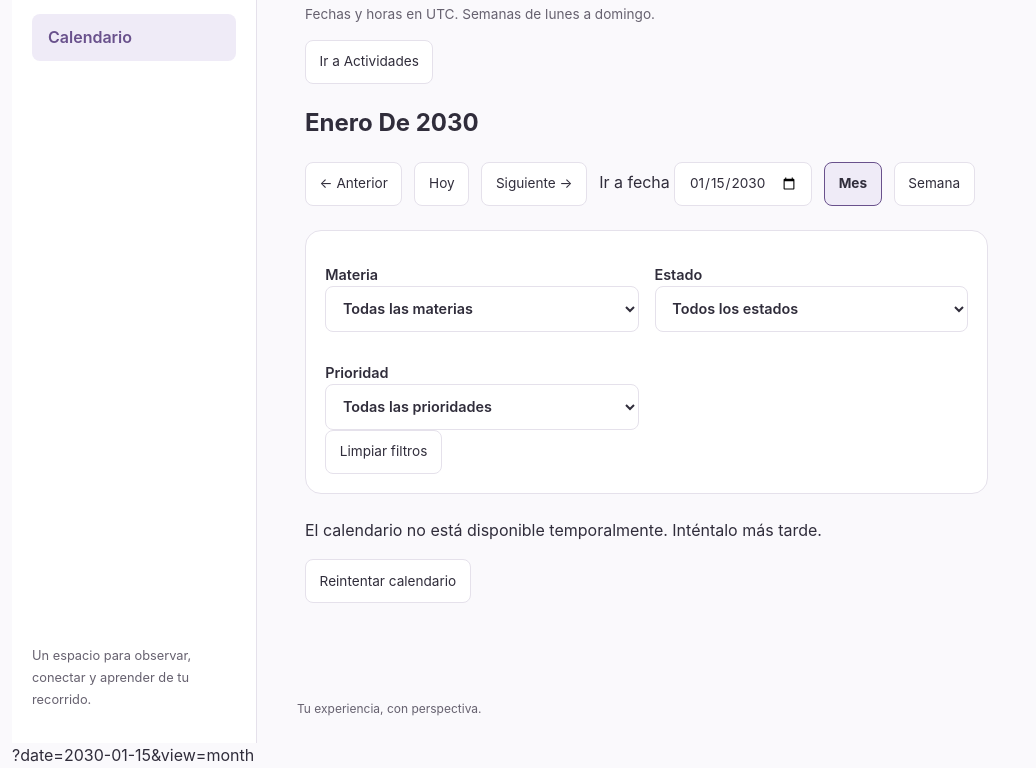
Test: Calendar protected screen › retries a read failure and renders an empty period
The image size is (1036, 768).
(page scrolled)
Expected: the message shows "temporalmente", [305, 520, 822, 540]
What coordinates should you click on to do the following:
click the button "Reintentar calendario"
I would click on:
 (388, 582)
Its box is [305, 560, 471, 604].
(page scrolled)
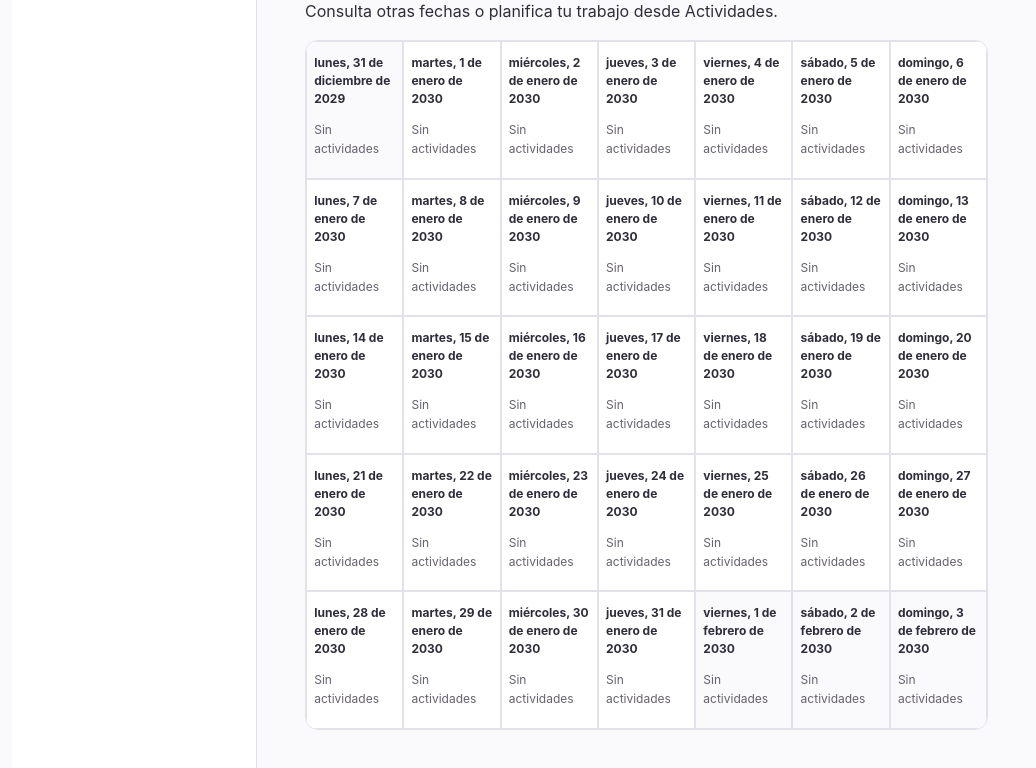
Expected: the element named "Vista mensual" is shown, [305, 40, 988, 730]
